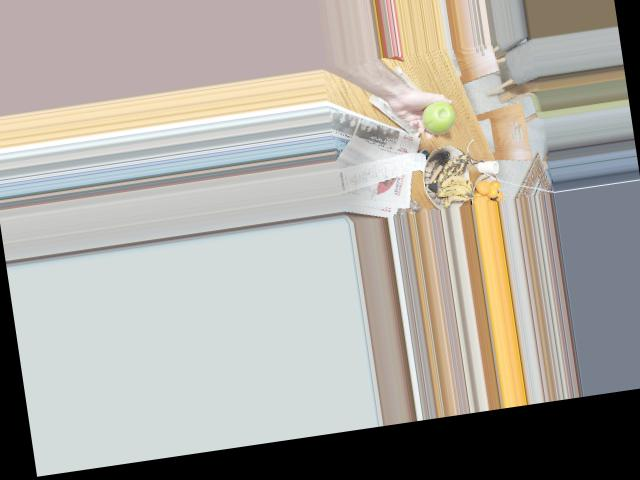apple: (418, 96, 458, 137)
